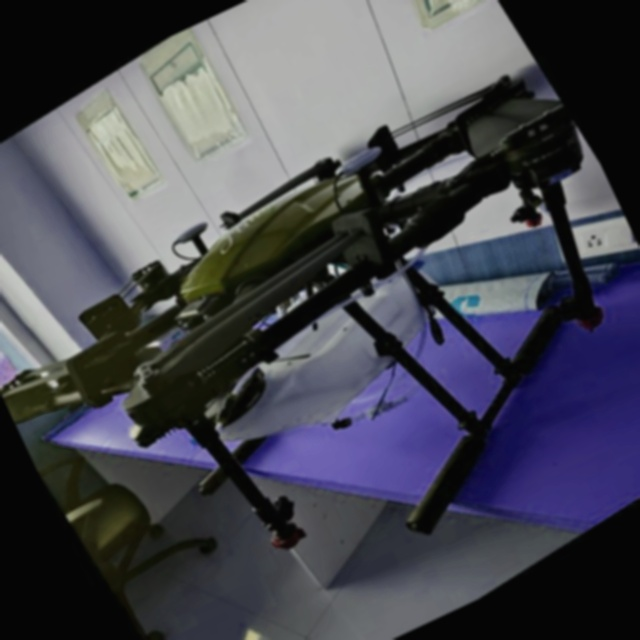agriculturedrone: (0, 8, 640, 640)
